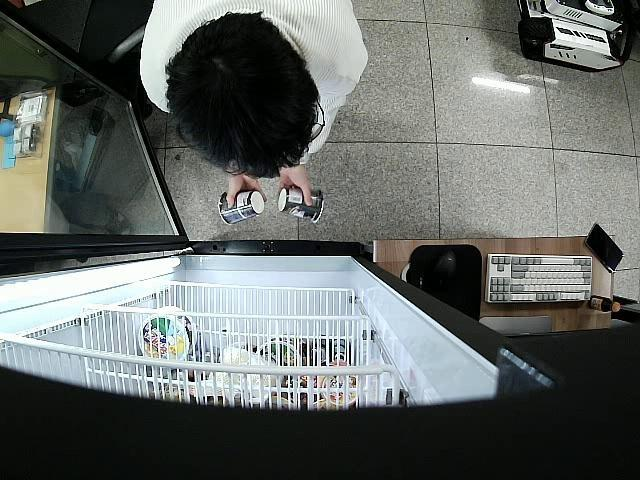08_buldak_S: (279, 186, 326, 225), (218, 190, 265, 226)
